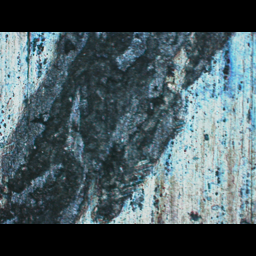d: (0, 32, 243, 224)
